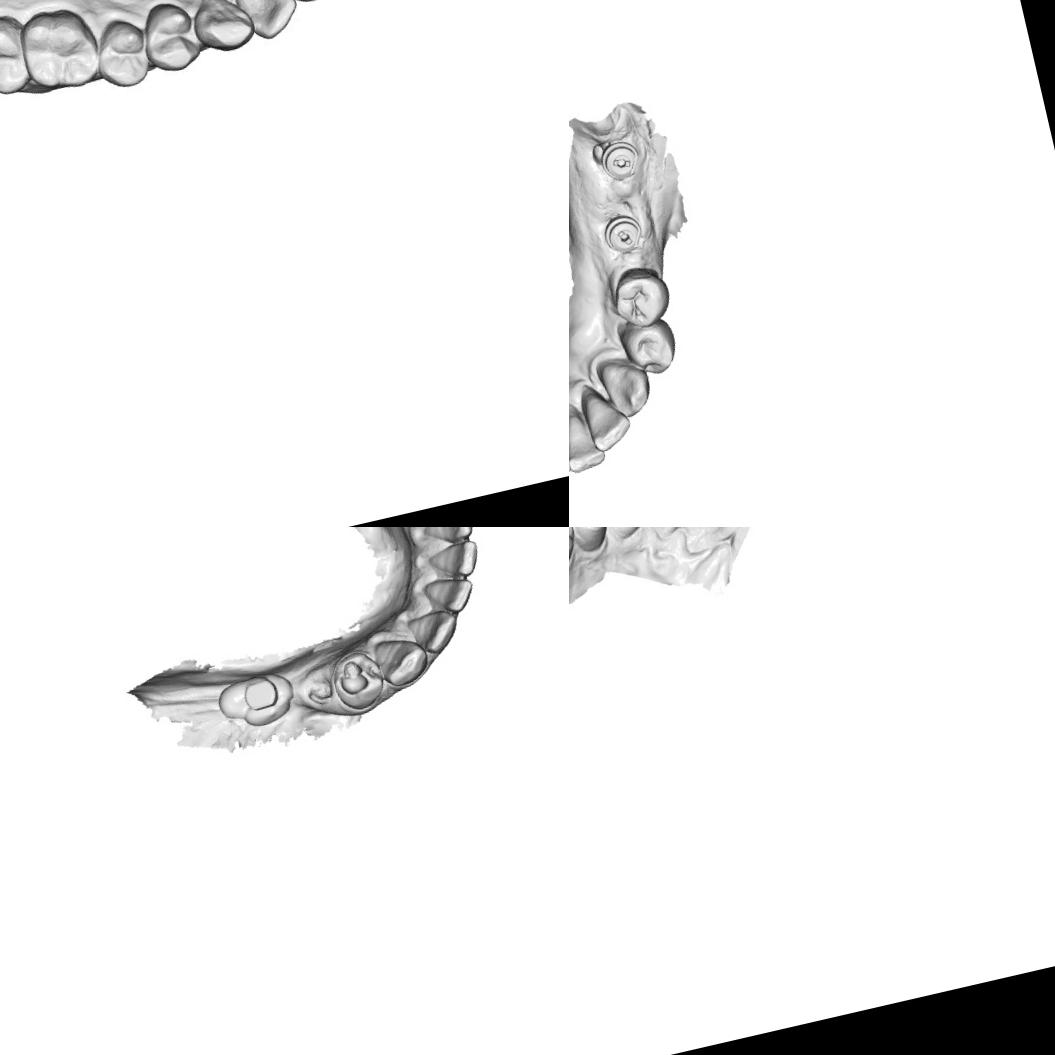canine: (586, 352, 658, 424), (188, 0, 258, 58), (371, 630, 432, 690), (595, 527, 659, 544)
implant_minus: (598, 210, 649, 260), (597, 135, 644, 186)
incisor: (577, 383, 637, 456), (231, 0, 305, 46), (403, 604, 464, 659), (422, 536, 484, 585), (569, 404, 610, 476), (421, 571, 479, 620), (671, 527, 750, 558), (416, 527, 477, 550)
molar: (12, 0, 107, 97), (212, 666, 302, 734), (0, 8, 34, 104)
premolar: (89, 11, 155, 95), (135, 0, 204, 80), (607, 266, 678, 334), (326, 645, 390, 715), (618, 317, 683, 380), (569, 527, 617, 559)
